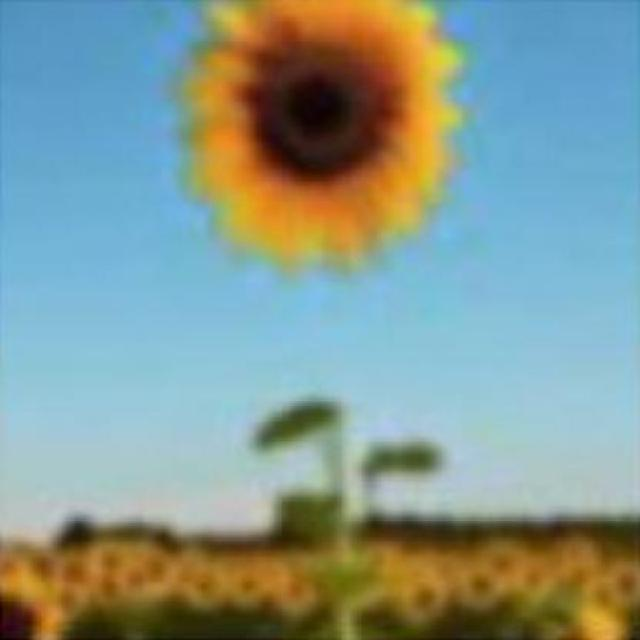sunflower: (163, 0, 475, 282)
